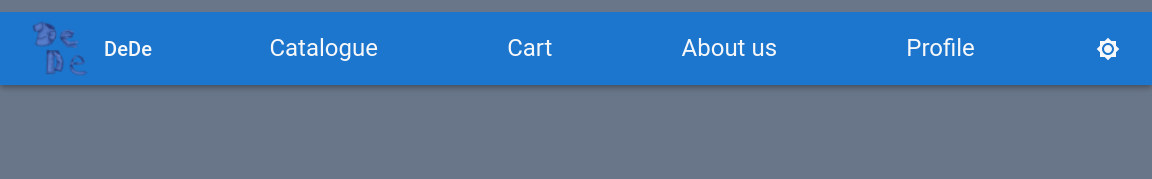
Test: clicking on the account button lets user go to login
The image size is (1152, 179).
Click the button with aria-label "account of current user": (940,48) [894, 20, 987, 76]
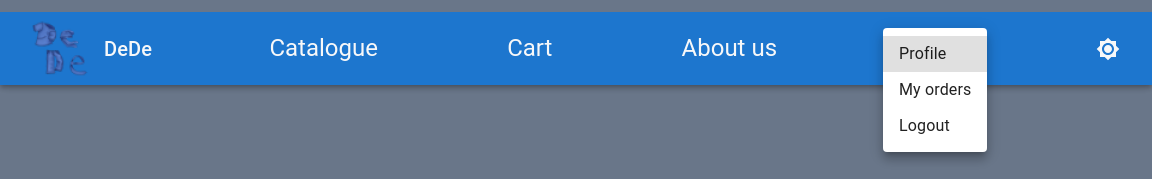
Check: the menu item "Profile" is shown, box [883, 36, 988, 72]
